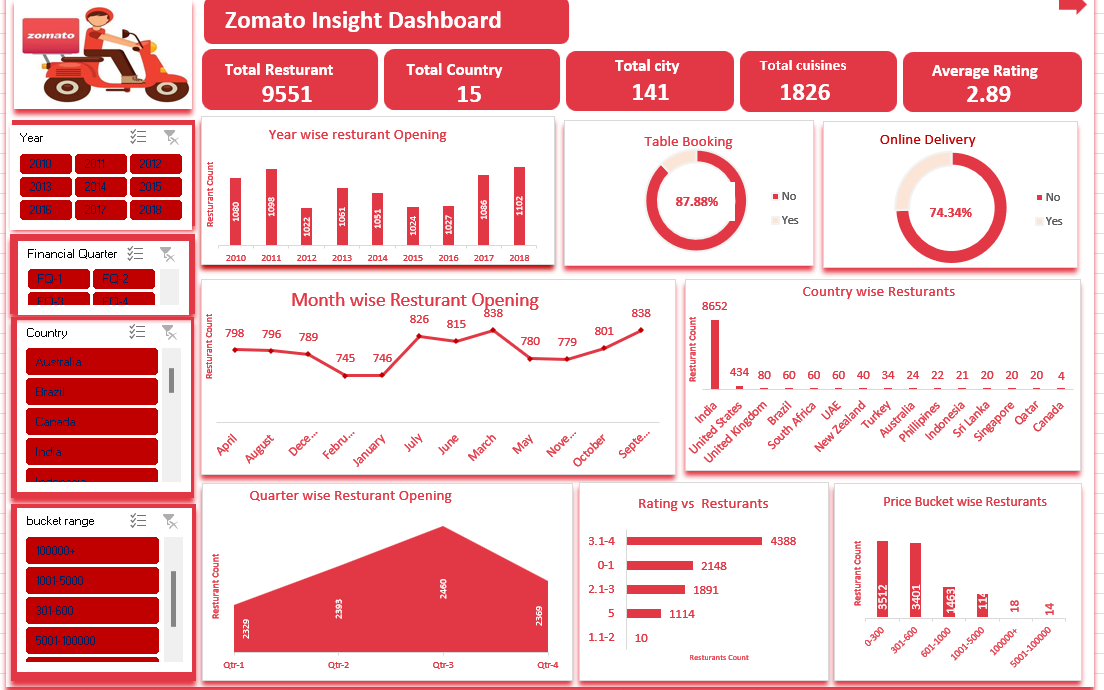

What the dashboard file says about the page in this screenshot:
{"tool":"tableau","page":{"name":"Dashboard 1","canvas":[1000,1000],"units":"permille","ordinal":0},"visuals":[{"type":"text","box":[9.7,16.5,975.9,981.2]},{"type":"image","param":"Image/Zomato pic.png","box":[12.7,23.5,85.1,118.8]},{"type":"image","param":"Image/Zomato_logo.png","box":[839.5,25.9,124.9,240]},{"type":"text","box":[104.4,45.9,226.9,63.5]},{"type":"filter","title":"Avg Ratings","param":"[federated.0ua935q1muo95y1bofdws0zzmao1].[qr:Date:ok]","box":[752,50.6,70,211.8]},{"type":"filter","title":"Avg Ratings","param":"[federated.0ua935q1muo95y1bofdws0zzmao1].[yr:Date:ok]","box":[526.9,52.9,96.6,62.4]},{"type":"filter","title":"Avg Ratings","param":"[federated.0ua935q1muo95y1bofdws0zzmao1].[mn:Date:ok]","box":[643.3,52.9,96.6,62.4]},{"type":"filter","title":"Avg Ratings","param":"[federated.0ua935q1muo95y1bofdws0zzmao1].[none:Country name:nk]","box":[413.4,54.1,96.6,62.4]},{"type":"worksheet","title":"Total Country","mark":"Automatic","box":[163,148.2,136.4,112.9]},{"type":"worksheet","title":"Total City","mark":"Automatic","box":[316.8,148.2,134,114.1]},{"type":"worksheet","title":"Avg Ratings","mark":"Automatic","box":[608.9,149.4,126.7,110.6]},{"type":"worksheet","title":"Total Cuisines","mark":"Automatic","box":[467.1,150.6,126.1,109.4]},{"type":"worksheet","title":"Total Restaurant","mark":"Automatic","box":[13.9,151.8,135.8,109.4]},{"type":"worksheet","title":"Month wise Restaurant opening","mark":"Line","rows":["RestaurantID"],"cols":["Month Name"],"box":[319.9,280,657.2,340]},{"type":"worksheet","title":"Year wise Restaurant opening","mark":"Bar","rows":["RestaurantID"],"cols":["Year"],"box":[14.5,283.5,294.5,332.9]},{"type":"worksheet","title":"Online Delivery","mark":"Pie","box":[468.9,631.8,216.7,352.9]},{"type":"worksheet","title":"No. of Restaurant by Bucket list ","mark":"Automatic","rows":["bucket range"],"cols":["RestaurantID"],"box":[698.2,632.9,279.4,342.4]},{"type":"worksheet","title":"QTR wise Restaurant opening ","mark":"Area","rows":["RestaurantID"],"cols":["Quarter"],"box":[13.3,635.3,242,354.1]},{"type":"worksheet","title":"Table booking","mark":"Pie","box":[264.3,635.3,196.7,350.6]}]}

Visuals, with their boxes on the dashboard's canvas, which has no fixed pixel size, in thousandths of its width and height (x1, y1, x2, y2). These are canvas units, not pixel positions in the 1104x690 screenshot, which may show the page scaled, cropped or inside an application window:
text: 10,16,986,998
image: 13,24,98,142
image: 840,26,964,266
text: 104,46,331,109
"Avg Ratings" filter: 752,51,822,262
"Avg Ratings" filter: 527,53,624,115
"Avg Ratings" filter: 643,53,740,115
"Avg Ratings" filter: 413,54,510,116
"Total Country" worksheet: 163,148,299,261
"Total City" worksheet: 317,148,451,262
"Avg Ratings" worksheet: 609,149,736,260
"Total Cuisines" worksheet: 467,151,593,260
"Total Restaurant" worksheet: 14,152,150,261
"Month wise Restaurant opening" worksheet (Line marks): 320,280,977,620
"Year wise Restaurant opening" worksheet (Bar marks): 14,284,309,616
"Online Delivery" worksheet (Pie marks): 469,632,686,985
"No. of Restaurant by Bucket list " worksheet: 698,633,978,975
"QTR wise Restaurant opening " worksheet (Area marks): 13,635,255,989
"Table booking" worksheet (Pie marks): 264,635,461,986
